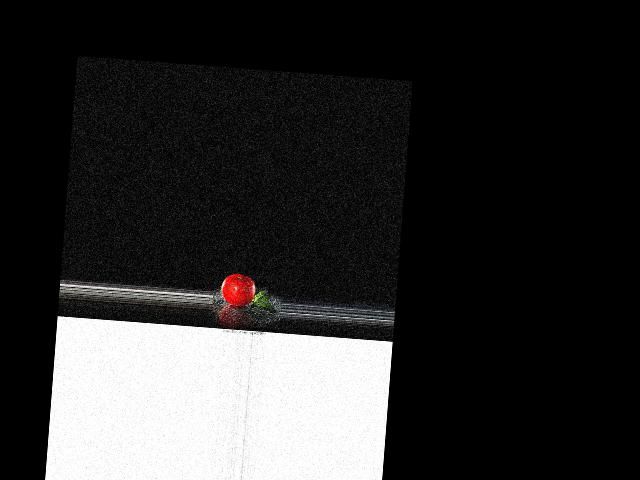tomato: (220, 272, 256, 307)
